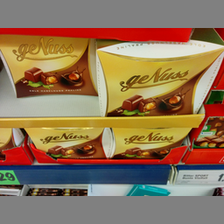chocolate: (96, 40, 220, 116), (1, 35, 97, 100)
